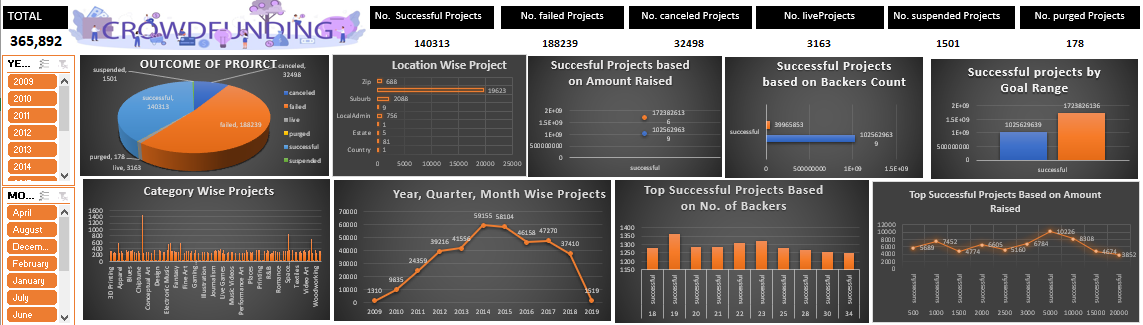

Layout of this report page (visuals, bound fields, positions):
{"tool":"tableau","page":{"name":"Dashboard 2","canvas":[1024,568],"ordinal":1},"visuals":[{"type":"dashboard-object","box":[8,8,171,52]},{"type":"image","param":"D:/DA/project 2 (P220)/Picture1.png","box":[179,8,425,100]},{"type":"worksheet","title":"TOTAL NO. OF PROJECT","mark":"Automatic","box":[604,8,113,100]},{"type":"worksheet","title":"COUNT OF BACKERS","mark":"Text","box":[717,8,94,100]},{"type":"worksheet","title":"TOTAL NO. OF LOCATION","mark":"Automatic","box":[811,8,91,100]},{"type":"worksheet","title":"TOTAL AMOUN","mark":"Automatic","box":[902,8,114,100]},{"type":"dashboard-object","box":[8,60,171,52]},{"type":"worksheet","title":"OUTCOME OF PROJECT","mark":"Pie","box":[179,108,418.5,226]},{"type":"worksheet","title":"LOCATION WISE PROJECT","mark":"Multipolygon","box":[597.5,108,418.5,226]},{"type":"filter","title":"COUNT OF BACKERS","param":"[federated.1hlrc2l0n2a86311llv1q1hjvrsu].[yr:Calculation_406449933332041730:ok]","box":[8,112,171,260]},{"type":"worksheet","title":"CATEGORY WISE PROJECT","mark":"Circle","rows":["id (Category)"],"cols":["name (Category)"],"box":[179,334,418.5,226]},{"type":"worksheet","title":"Successful projects by Goal Range ","mark":"Automatic","rows":["id","goal"],"cols":["state"],"box":[597.5,334,418.5,226]},{"type":"filter","title":"COUNT OF BACKERS","param":"[federated.1hlrc2l0n2a86311llv1q1hjvrsu].[tmn:Calculation_406449933332041730:ok]","box":[8,372,171,36]},{"type":"filter","title":"COUNT OF BACKERS","param":"[federated.1hlrc2l0n2a86311llv1q1hjvrsu].[wd:Calculation_406449933332041730:ok]","box":[8,408,171,47]},{"type":"filter","title":"COUNT OF BACKERS","param":"[federated.1hlrc2l0n2a86311llv1q1hjvrsu].[dy:Calculation_406449933332041730:ok]","box":[8,455,171,46]}]}

Visuals, with their boxes on the page's 1024x568 design canvas (x1, y1, x2, y2). These are canvas units, not pixel positions in the 1143x325 screenshot, which may show the page scaled, cropped or inside an application window:
dashboard-object: (8, 8, 179, 60)
image: (179, 8, 604, 108)
"TOTAL NO. OF PROJECT" worksheet: (604, 8, 717, 108)
"COUNT OF BACKERS" worksheet (Text marks): (717, 8, 811, 108)
"TOTAL NO. OF LOCATION" worksheet: (811, 8, 902, 108)
"TOTAL AMOUN" worksheet: (902, 8, 1016, 108)
dashboard-object: (8, 60, 179, 112)
"OUTCOME OF PROJECT" worksheet (Pie marks): (179, 108, 598, 334)
"LOCATION WISE PROJECT" worksheet (Multipolygon marks): (598, 108, 1016, 334)
"COUNT OF BACKERS" filter: (8, 112, 179, 372)
"CATEGORY WISE PROJECT" worksheet (Circle marks): (179, 334, 598, 560)
"Successful projects by Goal Range " worksheet: (598, 334, 1016, 560)
"COUNT OF BACKERS" filter: (8, 372, 179, 408)
"COUNT OF BACKERS" filter: (8, 408, 179, 455)
"COUNT OF BACKERS" filter: (8, 455, 179, 501)
